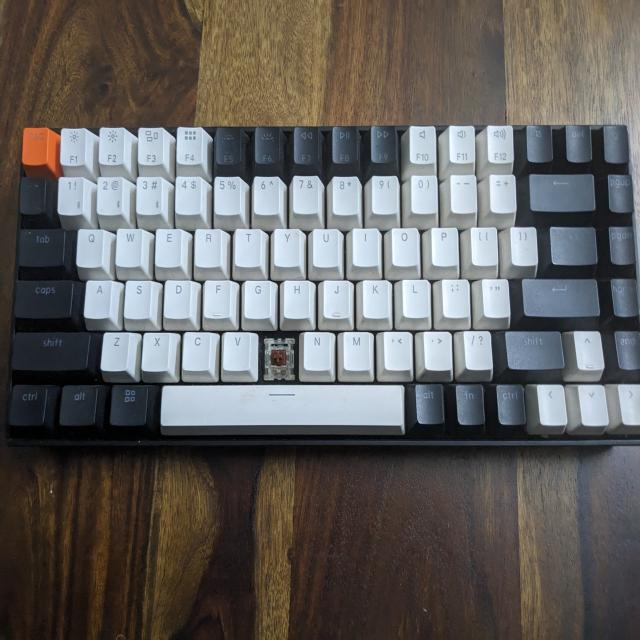C: (263, 332, 295, 379)
